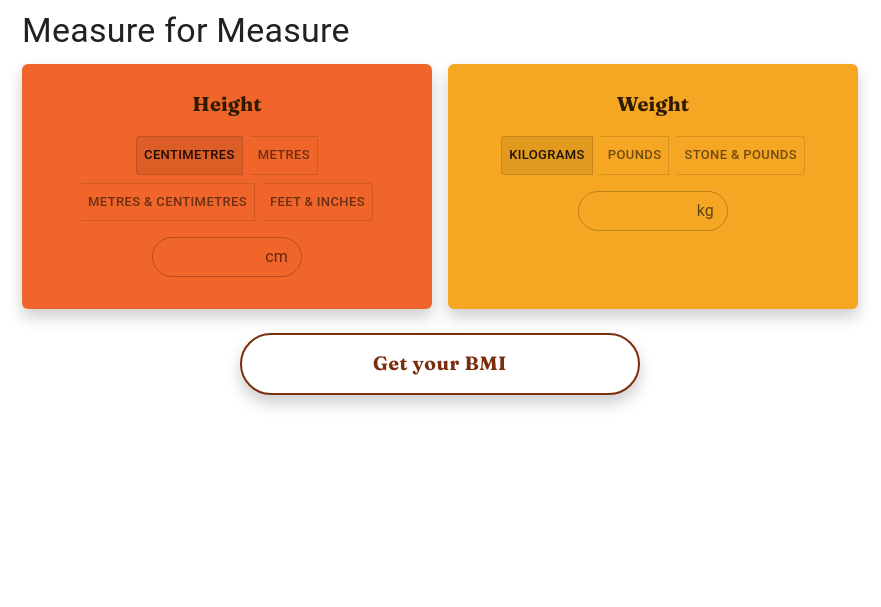
Test: App › shows BMI result after valid submission
The width and height of the screenshot is (881, 607).
Type "170" into the number field next to "cm" at coordinates (205, 257), box top-left (152, 237), bottom-right (257, 277)
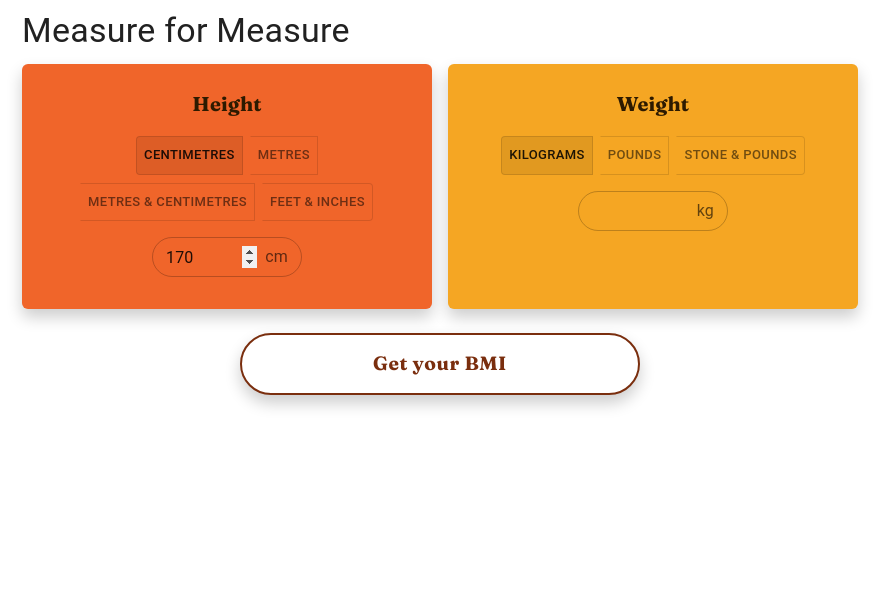
Type "70" into the number field next to "kg" at coordinates (633, 211), box top-left (578, 191), bottom-right (689, 231)
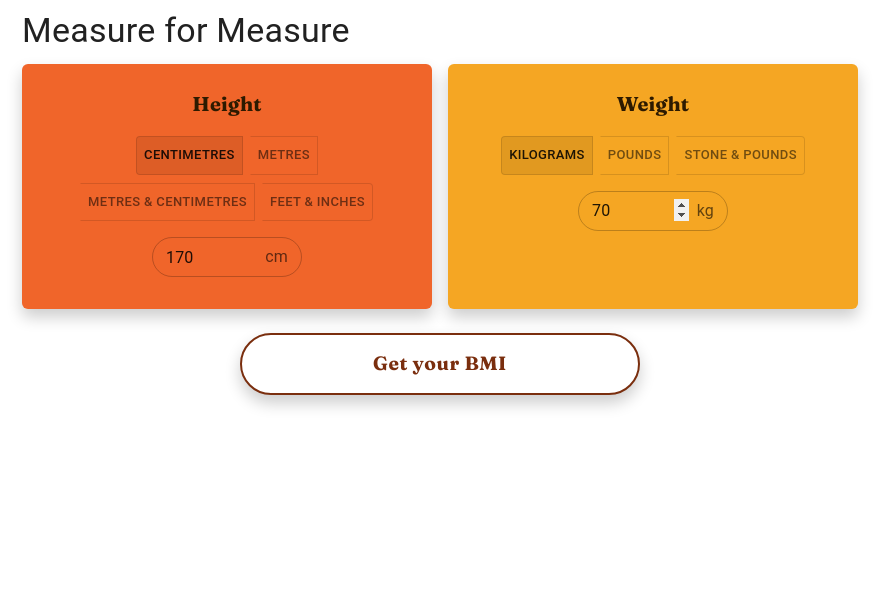
Click the button "Get your BMI" at coordinates (440, 364), box top-left (240, 333), bottom-right (640, 395)
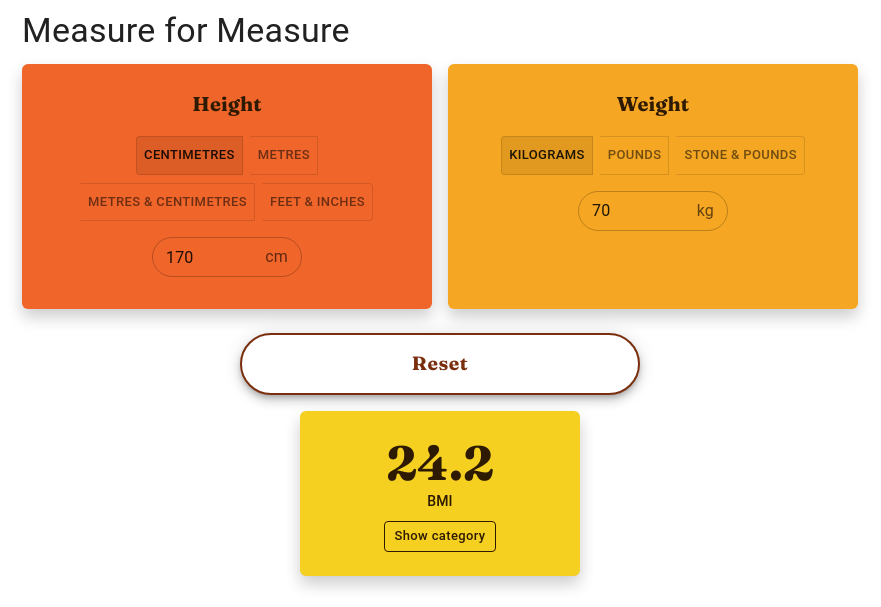
expect the heading "24.2" is shown: met, box top-left (386, 433), bottom-right (494, 492)
